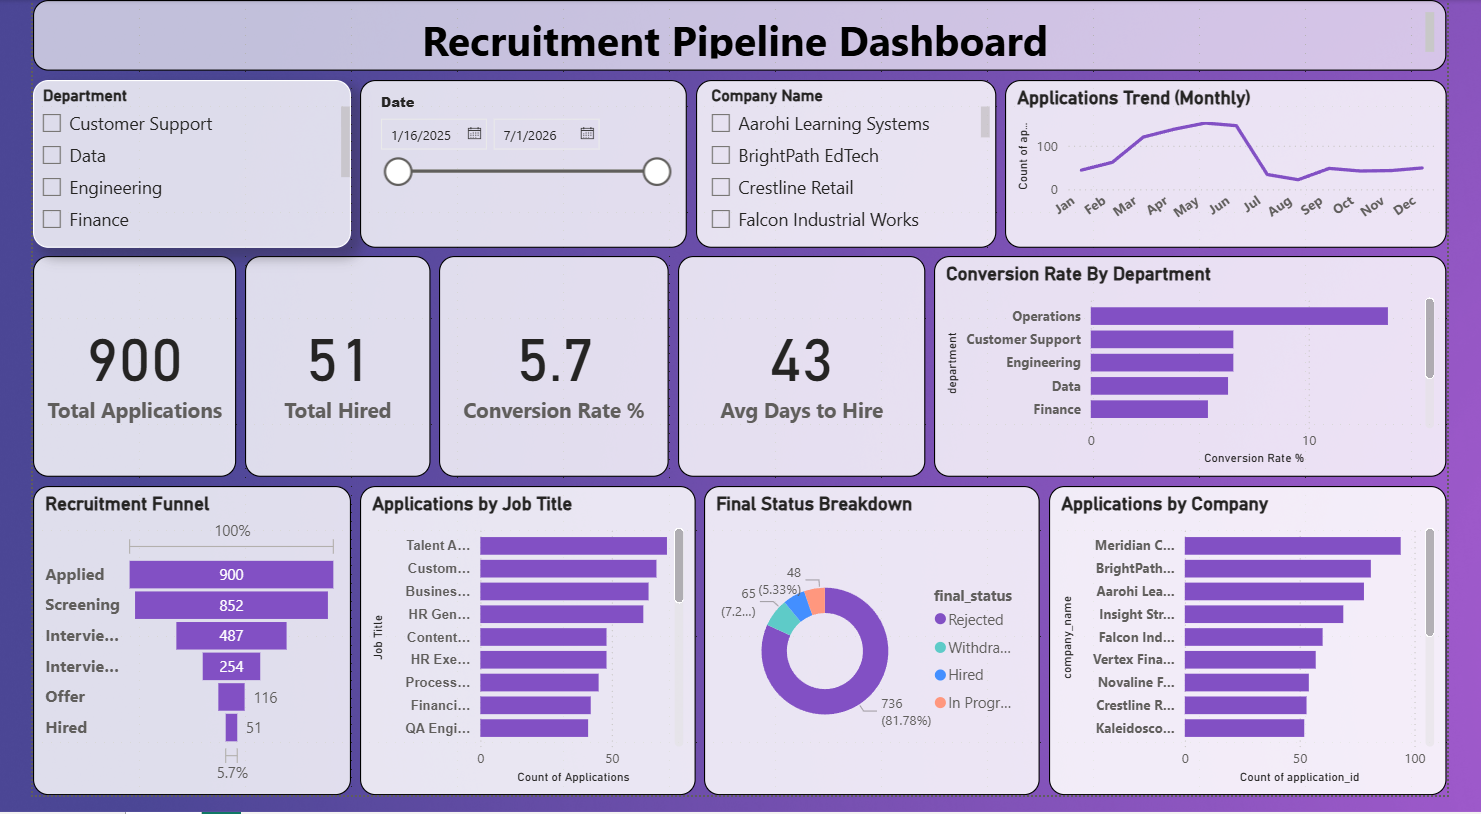

This screenshot's page, from the dashboard's own definition file:
{"tool":"powerbi","page":{"name":"Page 1","canvas":[1280,720],"ordinal":0},"visuals":[{"type":"card","fields":{"Values":["applications.Total Applications"]},"box":[0,232,184,200],"z":0},{"type":"card","fields":{"Values":["applications.Total Hired"]},"box":[192,232,168,200],"z":1000},{"type":"card","fields":{"Values":["applications.Conversion Rate %"]},"box":[368,232,208,200],"z":2000},{"type":"funnel","title":"\tRecruitment Funnel","fields":{"Category":["application_stages.stage_name"],"Y":["CountNonNull(application_stages.application_id)"]},"box":[0,440,288,280],"z":3000},{"type":"lineChart","title":"Applications Trend (Monthly)","fields":{"Category":["DateTable.Month"],"Y":["CountNonNull(applications.application_id)"]},"box":[880,72,400,152],"z":4000},{"type":"barChart","title":"Applications by Job Title","fields":{"Category":["jobs.job_title"],"Y":["CountNonNull(applications.application_id)"]},"box":[296,440,304,280],"z":5000},{"type":"barChart","title":"Applications by Company","fields":{"Category":["companies.company_name"],"Y":["CountNonNull(applications.application_id)"]},"box":[920,440,360,280],"z":6000},{"type":"donutChart","title":"\tFinal Status Breakdown","fields":{"Category":["applications.final_status"],"Y":["CountNonNull(applications.application_id)"]},"box":[608,440,304,280],"z":7000},{"type":"slicer","fields":{"Values":["companies.company_name"]},"box":[600,72,272,152],"z":8000},{"type":"slicer","fields":{"Values":["jobs.department"]},"box":[0,72,288,152],"z":9000},{"type":"slicer","fields":{"Values":["DateTable.Date"]},"box":[296,72,296,152],"z":10000},{"type":"card","fields":{"Values":["applications.Avg Days to Hire"]},"box":[584,232,224,200],"z":11000},{"type":"clusteredBarChart","title":"Conversion Rate By Department ","fields":{"Y":["applications.Conversion Rate %"],"Category":["jobs.department"]},"box":[816,232,464,200],"z":12000},{"type":"textbox","box":[0,0,1280,64],"z":13000}]}

Visuals, with their boxes in screenshot pixels (x1, y1, x2, y2), scaled from the page's 1280x720 canvas onto the 1481x814 screenshot:
card - applications.Total Applications: pyautogui.locateOnScreen(0, 262, 213, 488)
card - applications.Total Hired: pyautogui.locateOnScreen(222, 262, 417, 488)
card - applications.Conversion Rate %: pyautogui.locateOnScreen(426, 262, 666, 488)
"	Recruitment Funnel" funnel: pyautogui.locateOnScreen(0, 497, 333, 813)
"Applications Trend (Monthly)" lineChart: pyautogui.locateOnScreen(1018, 81, 1480, 253)
"Applications by Job Title" barChart: pyautogui.locateOnScreen(342, 497, 694, 813)
"Applications by Company" barChart: pyautogui.locateOnScreen(1064, 497, 1480, 813)
"	Final Status Breakdown" donutChart: pyautogui.locateOnScreen(703, 497, 1055, 813)
slicer - companies.company_name: pyautogui.locateOnScreen(694, 81, 1009, 253)
slicer - jobs.department: pyautogui.locateOnScreen(0, 81, 333, 253)
slicer - DateTable.Date: pyautogui.locateOnScreen(342, 81, 685, 253)
card - applications.Avg Days to Hire: pyautogui.locateOnScreen(676, 262, 935, 488)
"Conversion Rate By Department " clusteredBarChart: pyautogui.locateOnScreen(944, 262, 1480, 488)
textbox: pyautogui.locateOnScreen(0, 0, 1480, 72)
